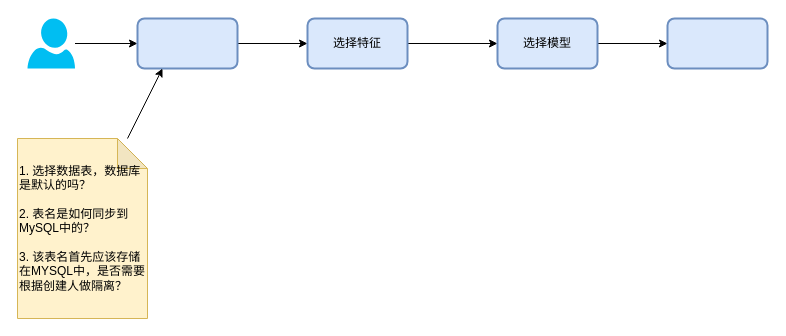
This 786x336 diagram has some shape labels left out. The shapes that lost their labels are listed below. From the top down, each one's centre as x and y in pixels, then its label:
At pixel 187 43: "选择数据表".
At pixel 717 43: "运算".
